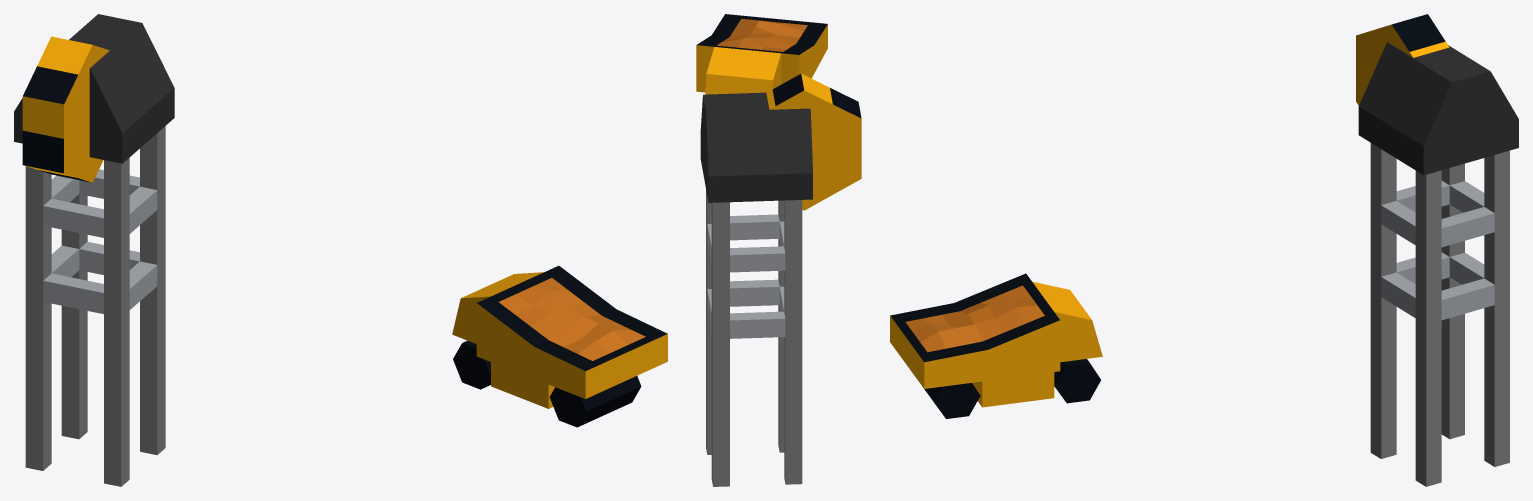
File: Border_6_exploring.fbx
3 renders of one model, left to right at view 1: azimuth 30°, elevation 25°; view 2: azimuth 150°, elevation 25°; view 3: azimuth 270°, elevation 25°, orthographic. The views are drawn at different scales.
Parts seen in each view (by area): view 1: Cube.013, Cube.014, Cylinder.006; view 2: Cube.013, Cube.014, Cylinder.006; view 3: Cube.013, Cube.014, Cylinder.006.
Boxes of the visible parts, <box> form: Cube.013: <box>14,14,174,486</box>; Cube.014: <box>452,265,667,427</box>; Cylinder.006: <box>22,36,109,182</box>; Cube.013: <box>700,92,812,486</box>; Cube.014: <box>696,14,827,94</box>; Cylinder.006: <box>766,73,861,210</box>; Cube.013: <box>1358,42,1518,486</box>; Cube.014: <box>890,273,1102,418</box>; Cylinder.006: <box>1356,14,1449,105</box>.
Bounding box in the file's own units: 151 × 158 × 214.
